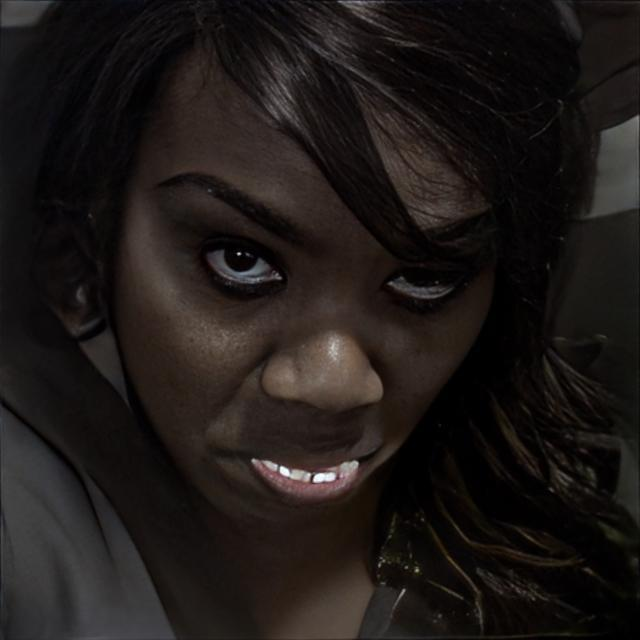anger: (102, 74, 507, 536)
